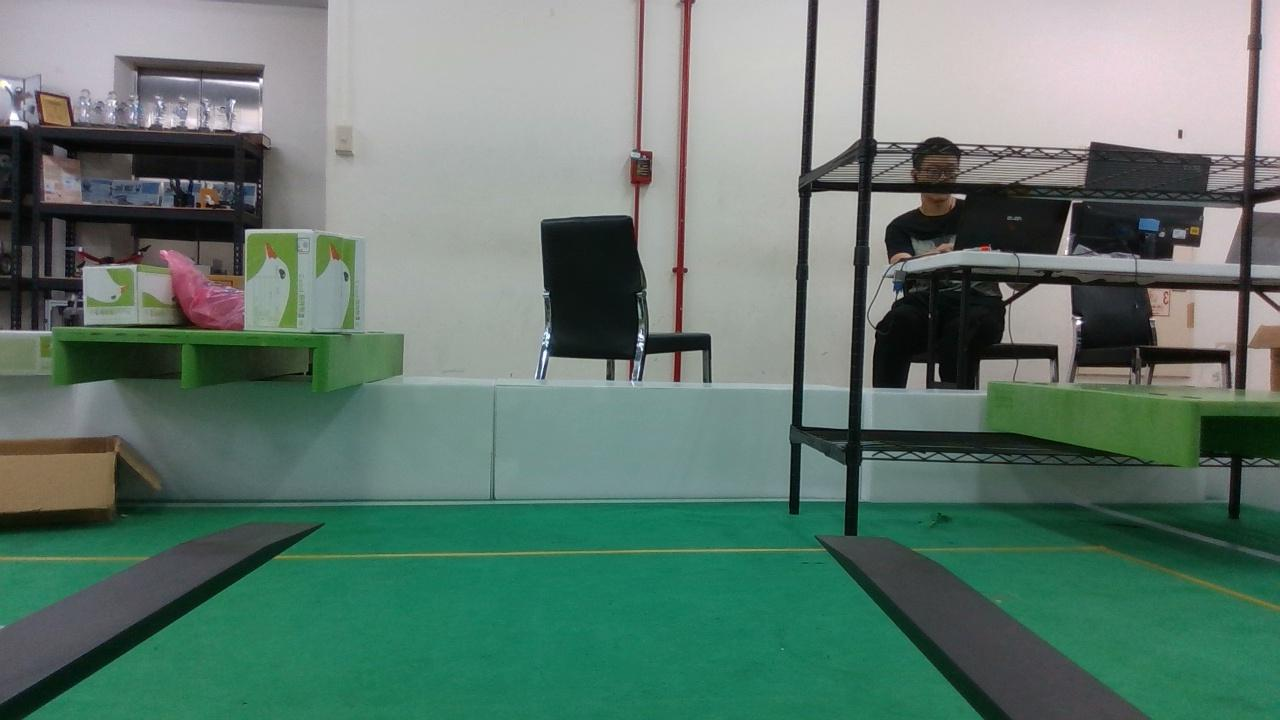Pallet: (50, 329, 335, 394)
